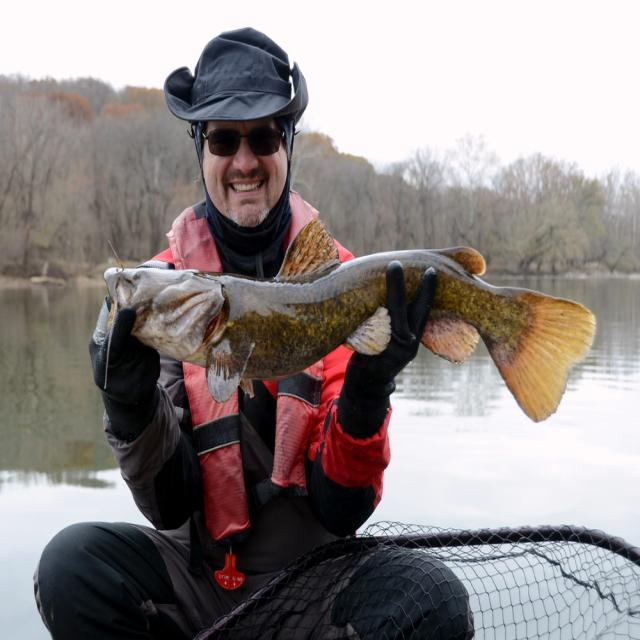Catfish - Flathead: (105, 220, 595, 421)
